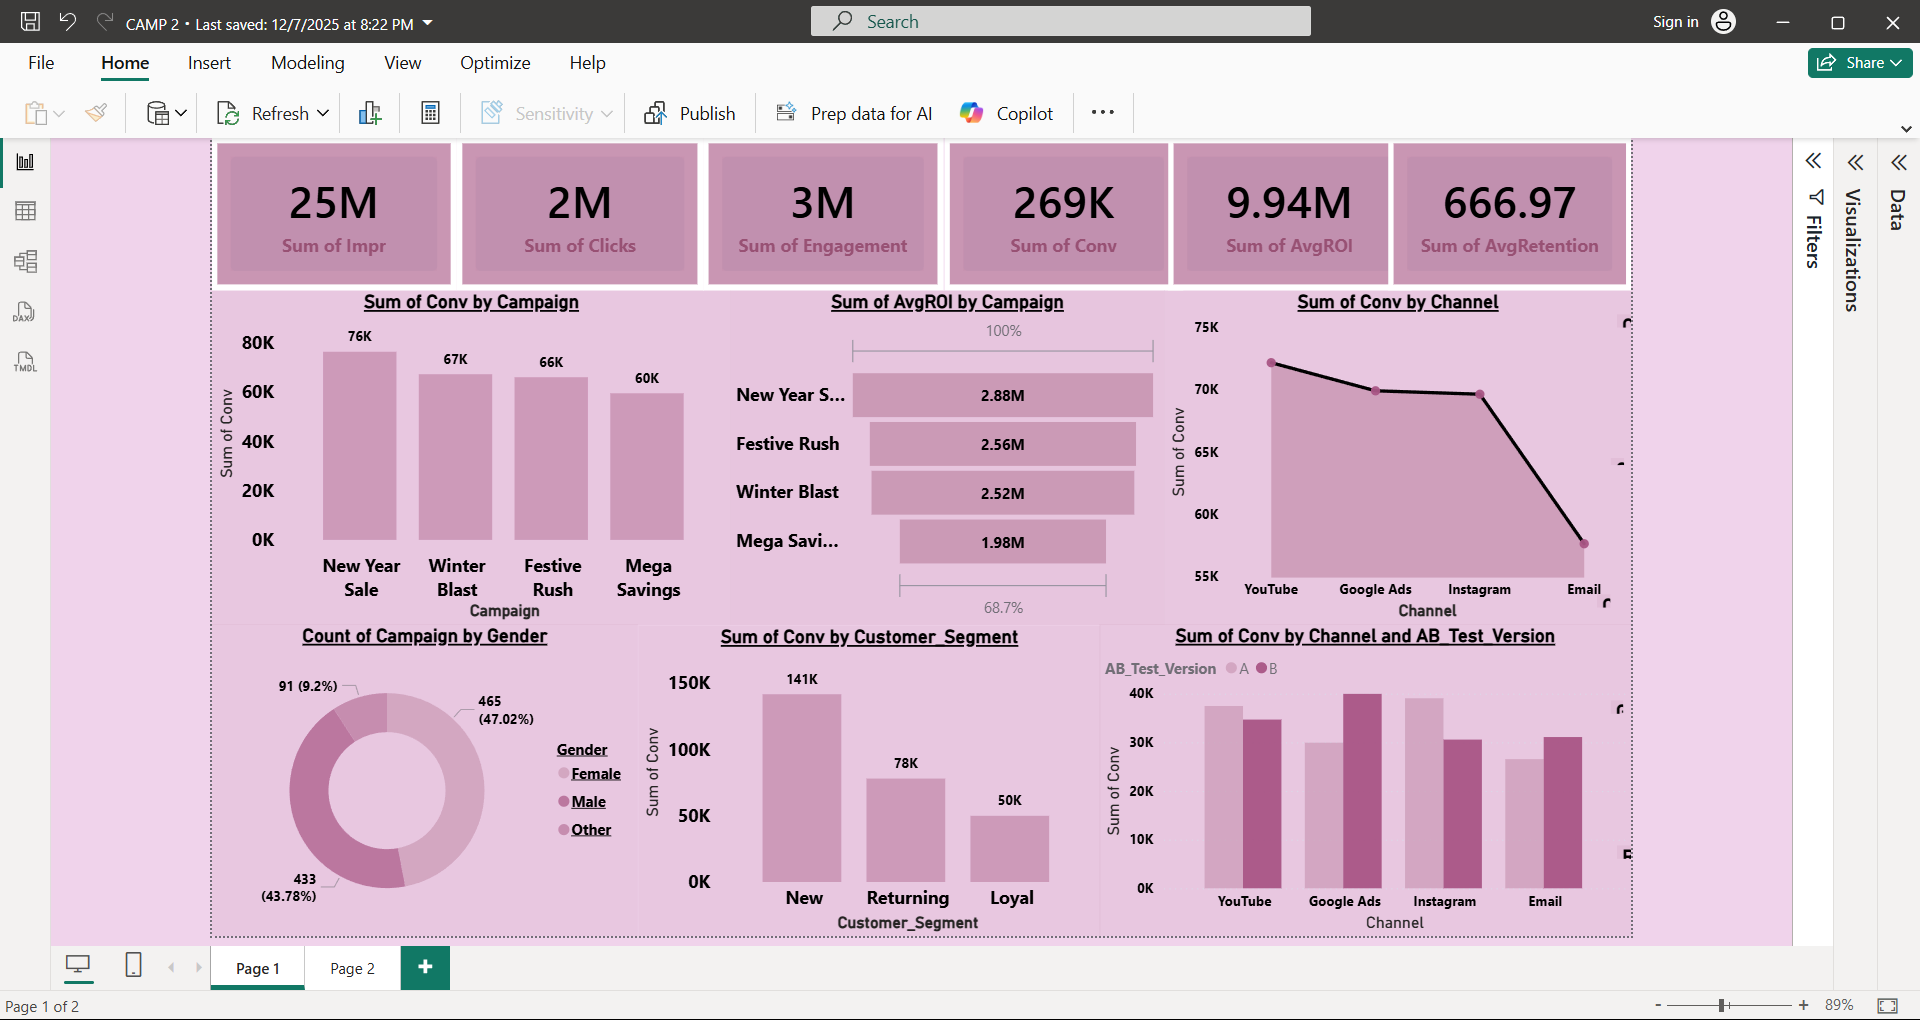

What the dashboard file says about the page in this screenshot:
{"tool":"powerbi","page":{"name":"Page 1","canvas":[1280,720],"ordinal":0},"visuals":[{"type":"cardVisual","fields":{"Data":["Sum(advanced_cleaned_market_anaylsis_sql.Impr)"]},"box":[0,0,220.9,137.2],"z":0},{"type":"cardVisual","fields":{"Data":["Sum(advanced_cleaned_market_anaylsis_sql.Clicks)"]},"box":[220.9,0,222.3,137.2],"z":1000},{"type":"cardVisual","fields":{"Data":["Sum(advanced_cleaned_market_anaylsis_sql.Conv)"]},"box":[660,0,215.4,137.2],"z":2000},{"type":"cardVisual","fields":{"Data":["Sum(advanced_cleaned_market_anaylsis_sql.Engagement)"]},"box":[443.2,0,216.8,137.2],"z":3000},{"type":"cardVisual","fields":{"Data":["Sum(advanced_cleaned_market_anaylsis_sql.AvgROI)"]},"box":[861.8,0,219.6,137.2],"z":4000},{"type":"cardVisual","fields":{"Data":["Sum(advanced_cleaned_market_anaylsis_sql.AvgRetention)"]},"box":[1060.7,0,219.6,137.2],"z":5000},{"type":"columnChart","fields":{"Category":["advanced_cleaned_market_anaylsis_sql.Campaign"],"Y":["Sum(advanced_cleaned_market_anaylsis_sql.Conv)"]},"box":[0,137.2,467.9,301.9],"z":6000},{"type":"funnel","fields":{"Category":["advanced_cleaned_market_anaylsis_sql.Campaign"],"Y":["Sum(advanced_cleaned_market_anaylsis_sql.AvgROI)"]},"box":[467.9,137.2,391,301.9],"z":7000},{"type":"areaChart","fields":{"Category":["advanced_cleaned_market_anaylsis_sql.Channel"],"Y":["Sum(advanced_cleaned_market_anaylsis_sql.Conv)"]},"box":[859,137.2,421.3,301.9],"z":8000},{"type":"donutChart","fields":{"Category":["advanced_cleaned_market_anaylsis_sql.Gender"],"Y":["CountNonNull(advanced_cleaned_market_anaylsis_sql.Campaign)"]},"box":[0,439,384,281.3],"z":9000},{"type":"lineClusteredColumnComboChart","fields":{"Category":["advanced_cleaned_market_anaylsis_sql.Customer_Segment"],"Y":["Sum(advanced_cleaned_market_anaylsis_sql.Conv)"]},"box":[384.2,439.1,417.2,281.3],"z":10000},{"type":"clusteredColumnChart","fields":{"Category":["advanced_cleaned_market_anaylsis_sql.Channel"],"Y":["Sum(advanced_cleaned_market_anaylsis_sql.Conv)"],"Series":["advanced_cleaned_market_anaylsis_sql.AB_Test_Version"]},"box":[800,438.6,479.5,281.8],"z":11000},{"type":"advancedSlicerVisual","fields":{"Values":["advanced_cleaned_market_anaylsis_sql.Campaign"]},"box":[1266.9,159,13.5,12.2],"z":12000},{"type":"advancedSlicerVisual","fields":{"Values":["advanced_cleaned_market_anaylsis_sql.Customer_Segment"]},"box":[1260.7,288.6,12.2,6.1],"z":13000},{"type":"advancedSlicerVisual","fields":{"Values":["advanced_cleaned_market_anaylsis_sql.Channel"]},"box":[1248.5,410.9,12.2,12.2],"z":14000},{"type":"advancedSlicerVisual","fields":{"Values":["advanced_cleaned_market_anaylsis_sql.Gender"]},"box":[1260.7,507.5,11,12.2],"z":15000},{"type":"advancedSlicerVisual","fields":{"Values":["advanced_cleaned_market_anaylsis_sql.Region"]},"box":[1266.9,638.3,13.5,12.2],"z":16000}]}

Visuals, with their boxes on the page's 1280x720 design canvas (x1, y1, x2, y2). These are canvas units, not pixel positions in the 1920x1020 screenshot, which may show the page scaled, cropped or inside an application window:
cardVisual - Sum(advanced_cleaned_market_anaylsis_sql.Impr): 0, 0, 221, 137
cardVisual - Sum(advanced_cleaned_market_anaylsis_sql.Clicks): 221, 0, 443, 137
cardVisual - Sum(advanced_cleaned_market_anaylsis_sql.Conv): 660, 0, 875, 137
cardVisual - Sum(advanced_cleaned_market_anaylsis_sql.Engagement): 443, 0, 660, 137
cardVisual - Sum(advanced_cleaned_market_anaylsis_sql.AvgROI): 862, 0, 1081, 137
cardVisual - Sum(advanced_cleaned_market_anaylsis_sql.AvgRetention): 1061, 0, 1280, 137
columnChart - advanced_cleaned_market_anaylsis_sql.Campaign x Sum(advanced_cleaned_market_anaylsis_sql.Conv): 0, 137, 468, 439
funnel - advanced_cleaned_market_anaylsis_sql.Campaign x Sum(advanced_cleaned_market_anaylsis_sql.AvgROI): 468, 137, 859, 439
areaChart - advanced_cleaned_market_anaylsis_sql.Channel x Sum(advanced_cleaned_market_anaylsis_sql.Conv): 859, 137, 1280, 439
donutChart - advanced_cleaned_market_anaylsis_sql.Gender x CountNonNull(advanced_cleaned_market_anaylsis_sql.Campaign): 0, 439, 384, 720
lineClusteredColumnComboChart - advanced_cleaned_market_anaylsis_sql.Customer_Segment x Sum(advanced_cleaned_market_anaylsis_sql.Conv): 384, 439, 801, 720
clusteredColumnChart - advanced_cleaned_market_anaylsis_sql.Channel x Sum(advanced_cleaned_market_anaylsis_sql.Conv): 800, 439, 1280, 720
advancedSlicerVisual - advanced_cleaned_market_anaylsis_sql.Campaign: 1267, 159, 1280, 171
advancedSlicerVisual - advanced_cleaned_market_anaylsis_sql.Customer_Segment: 1261, 289, 1273, 295
advancedSlicerVisual - advanced_cleaned_market_anaylsis_sql.Channel: 1248, 411, 1261, 423
advancedSlicerVisual - advanced_cleaned_market_anaylsis_sql.Gender: 1261, 508, 1272, 520
advancedSlicerVisual - advanced_cleaned_market_anaylsis_sql.Region: 1267, 638, 1280, 650
